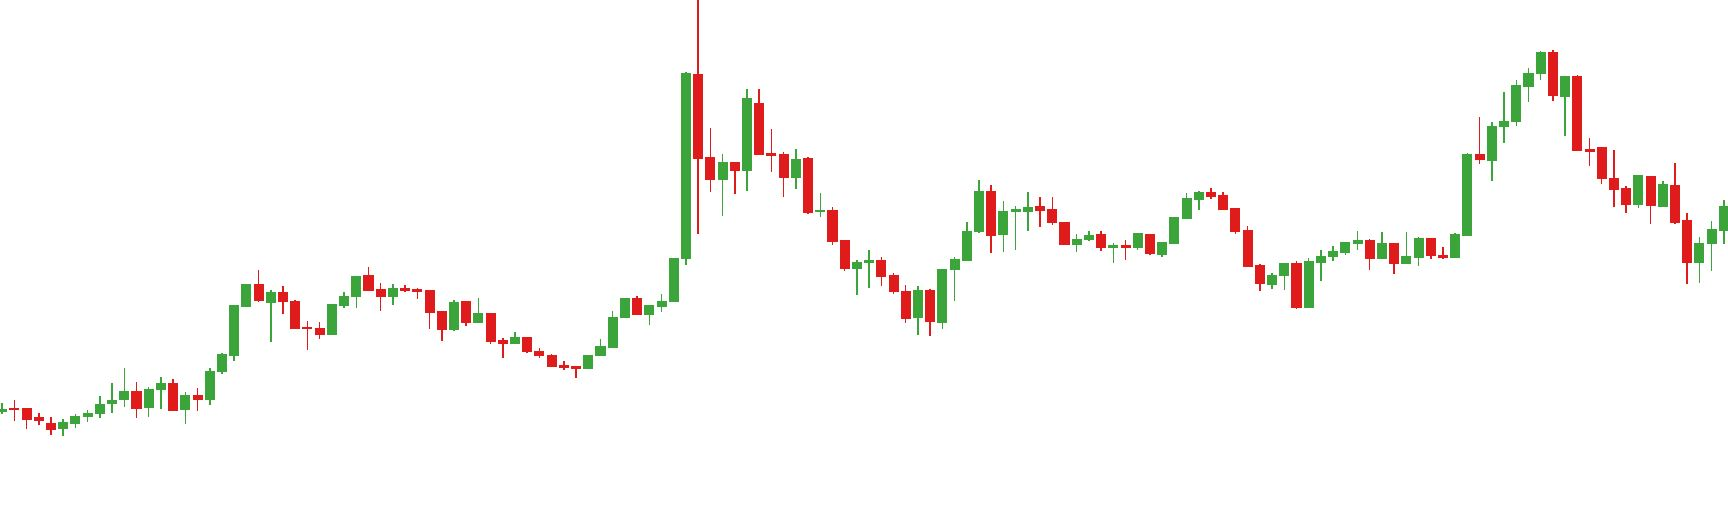sell: (1035, 187, 1229, 236)
